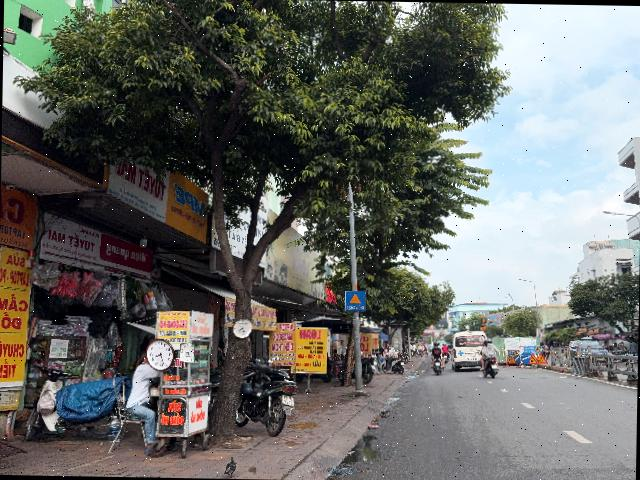khu-vuc-cho-phia-truoc: (344, 290, 366, 312)
